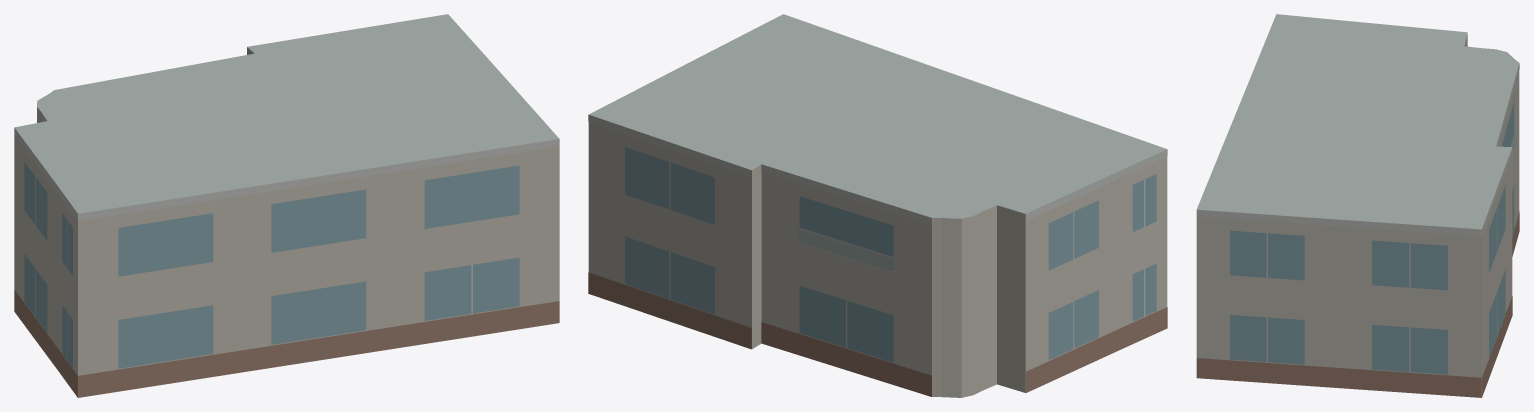
File: survey-upis-32938862.glb
The picture shows the model from 3 angles, left to right: view 1: azimuth 30°, elevation 25°; view 2: azimuth 150°, elevation 25°; view 3: azimuth 270°, elevation 25°; orthographic projection. The views are drawn at different scales.
Visible parts, largest first — view 1: survey-upis-32938862.tmp; view 2: survey-upis-32938862.tmp; view 3: survey-upis-32938862.tmp.
Boxes of the visible parts, x1,y1,x2,y2 form: survey-upis-32938862.tmp: (14,14,559,397); survey-upis-32938862.tmp: (588,14,1167,397); survey-upis-32938862.tmp: (1196,14,1519,397).
Bounding box in the file's own units: 16.47 × 6 × 10.44.
